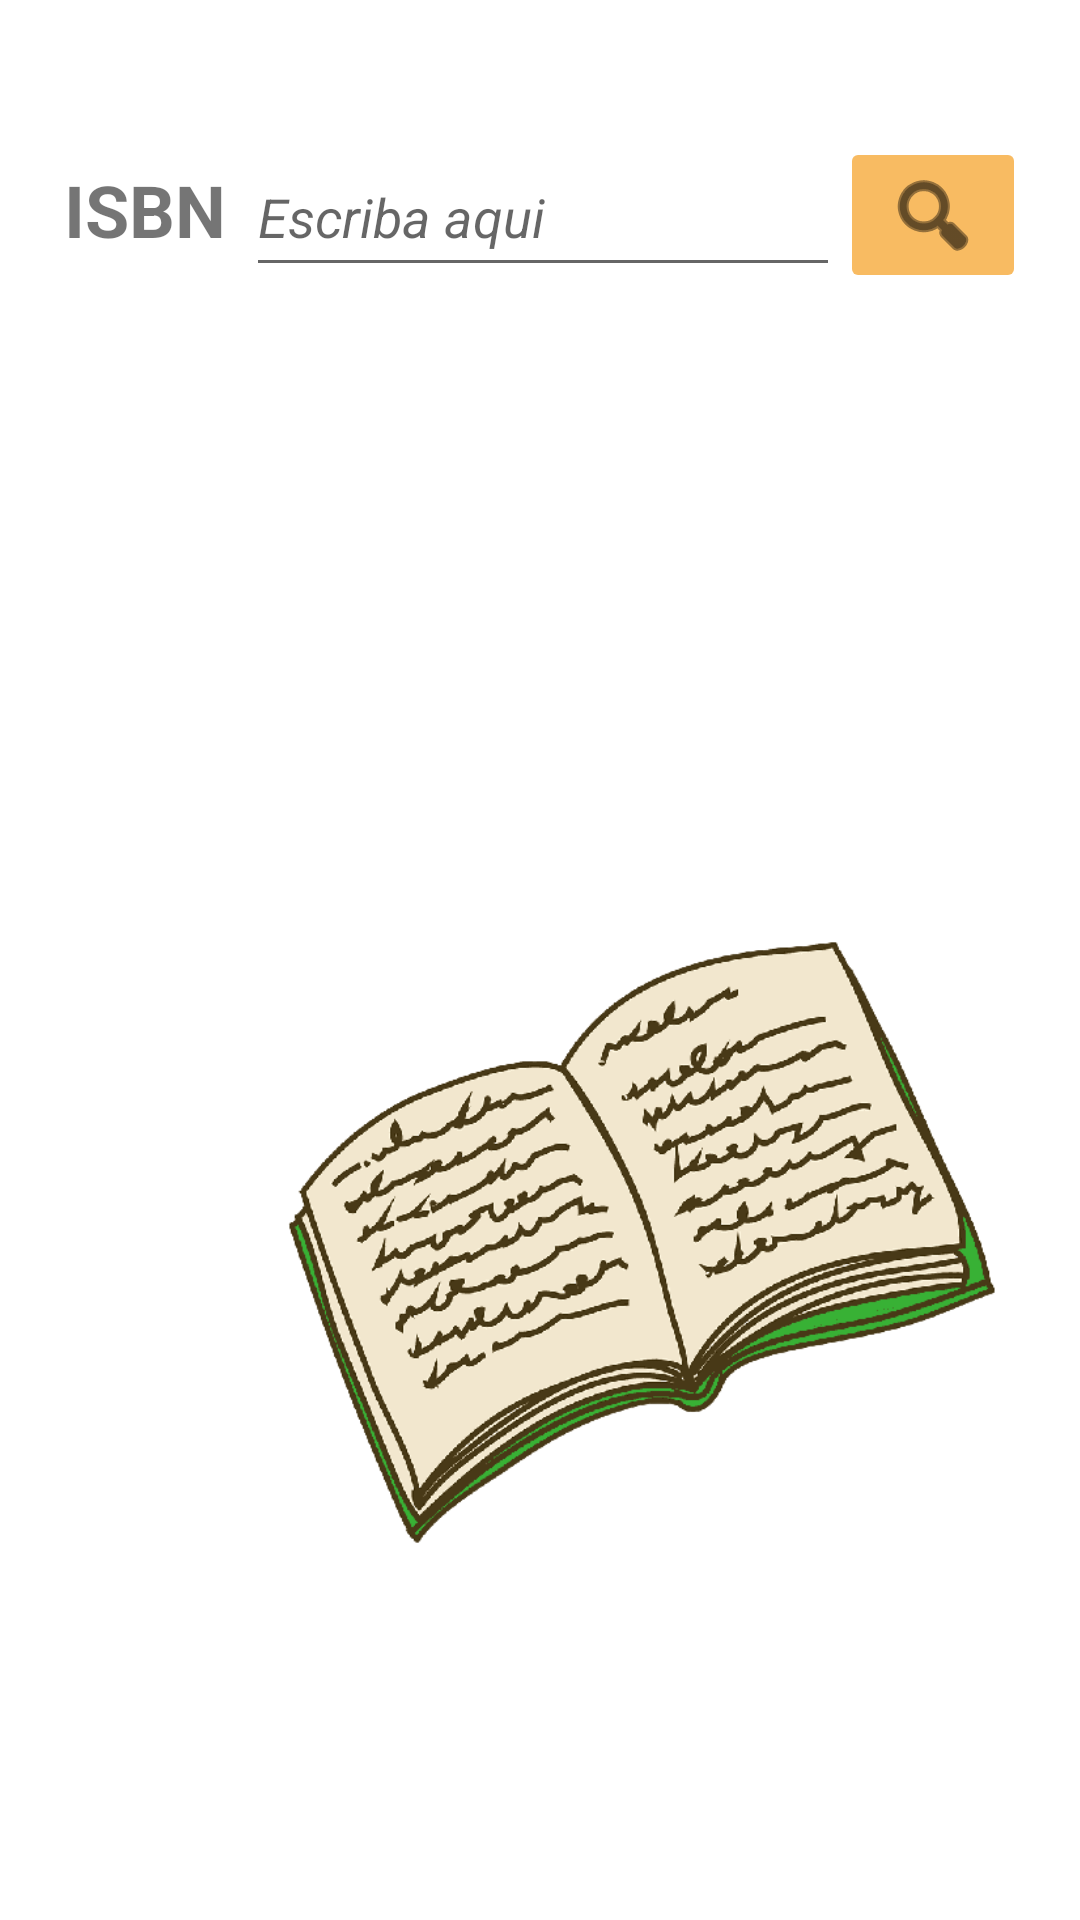

Screen size 1080×1920. Icon name, then its center in pixels as (x,y):
search: (933,215)
